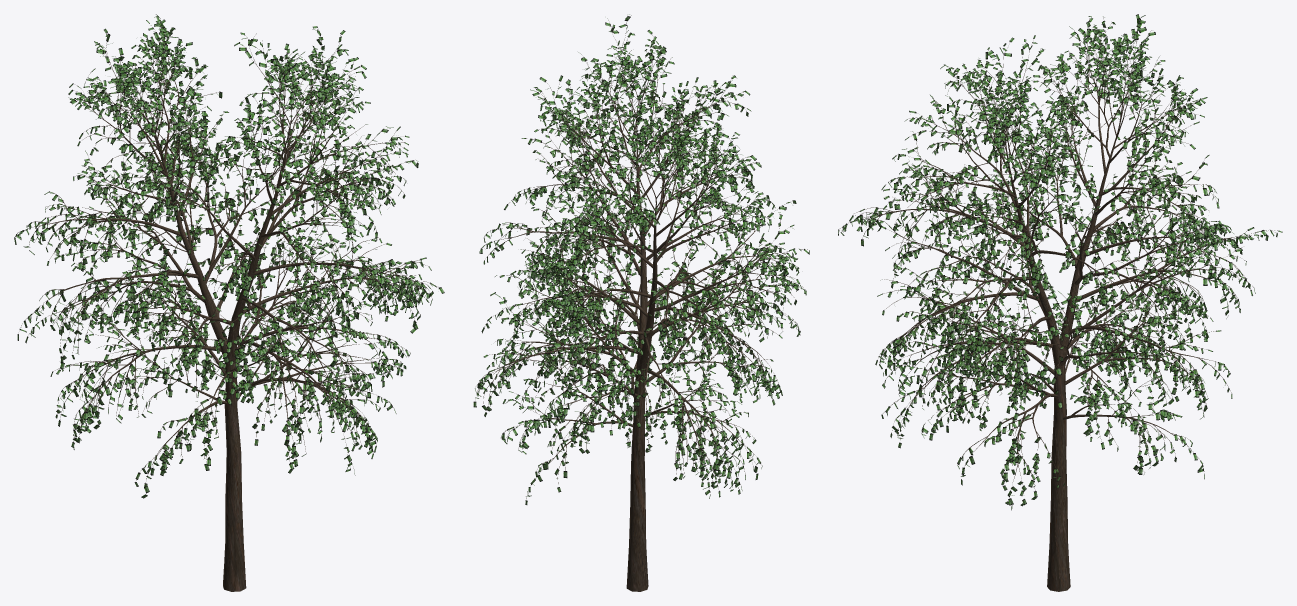
Rendered from tree_1.glb.
3 renders of one model, left to right at view 1: azimuth 30°, elevation 25°; view 2: azimuth 150°, elevation 25°; view 3: azimuth 270°, elevation 25°, orthographic. The views are drawn at different scales.
Visible parts, largest first — view 1: leaves, tree; view 2: leaves, tree; view 3: leaves, tree.
Boxes of the visible parts, x1,y1,x2,y2 form: leaves: (14,14,444,498); tree: (15,25,436,591); leaves: (473,14,809,504); tree: (474,20,807,591); leaves: (838,14,1282,510); tree: (840,17,1277,591).
Bounding box in the file's own units: 10.54 × 16.93 × 12.19.
2 materials, 2 textured.
